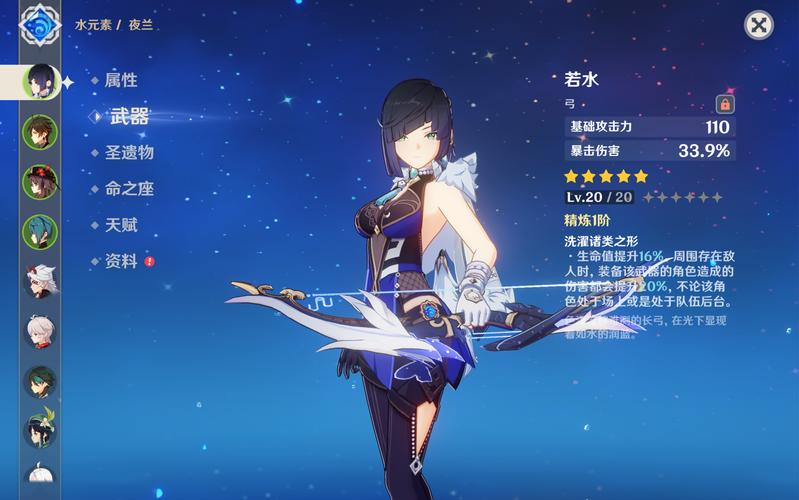夜兰: (328, 62, 499, 494)
